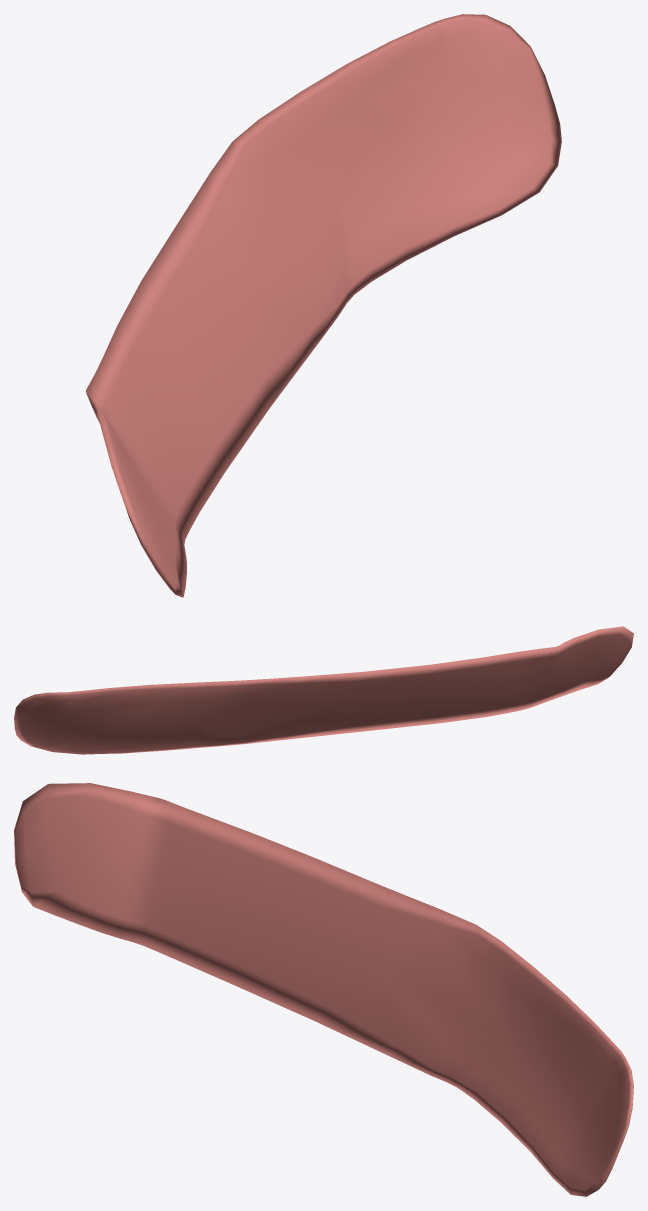
The picture shows the model from 3 angles, top to bottom: view 1: azimuth 30°, elevation 25°; view 2: azimuth 150°, elevation 25°; view 3: azimuth 270°, elevation 25°; orthographic projection. The views are drawn at different scales.
Visible parts, largest first — view 1: ZA_86fac77130089692; view 2: ZA_86fac77130089692; view 3: ZA_86fac77130089692.
Boxes of the visible parts, x1=… form: ZA_86fac77130089692: x1=86, y1=14, x2=561, y2=597; ZA_86fac77130089692: x1=14, y1=626, x2=633, y2=754; ZA_86fac77130089692: x1=14, y1=783, x2=633, y2=1196.
Size of the model in its own units: 0.0443 by 0.00974 by 0.039.
